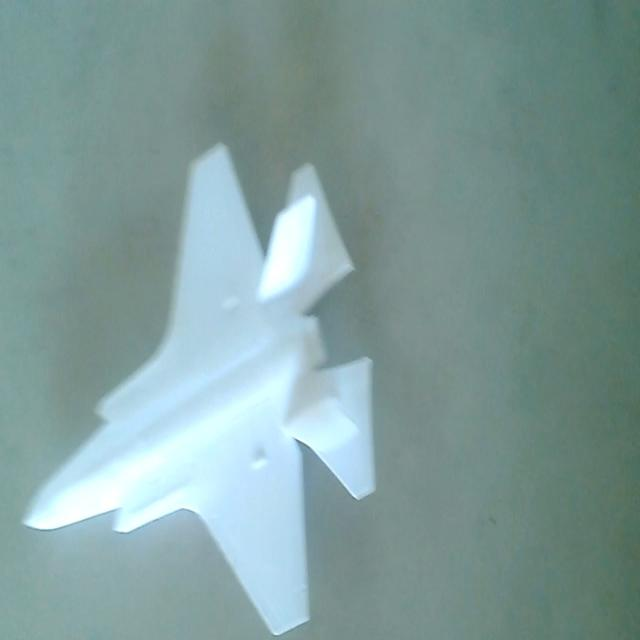Jet: (21, 139, 378, 640)
